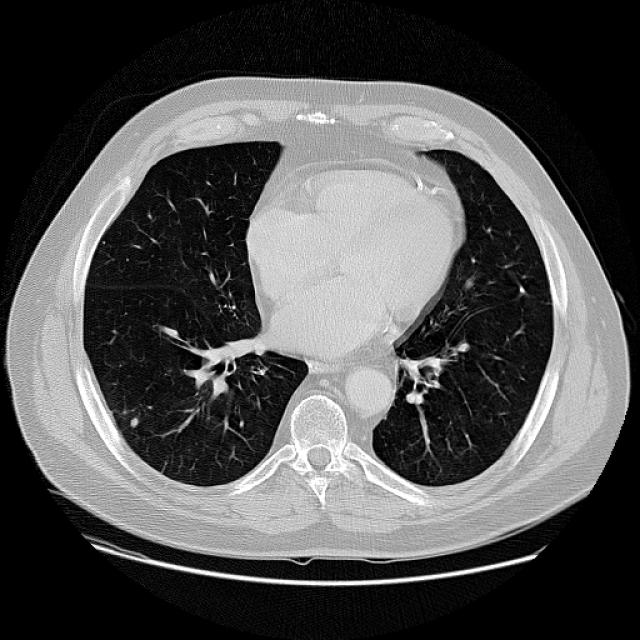nodule: (121, 410, 144, 432)
